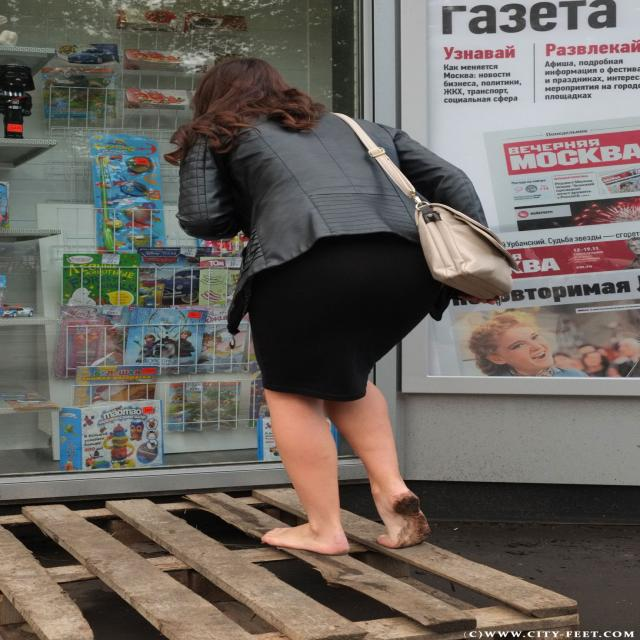Barefoots: (378, 488, 430, 549), (261, 523, 350, 555)
